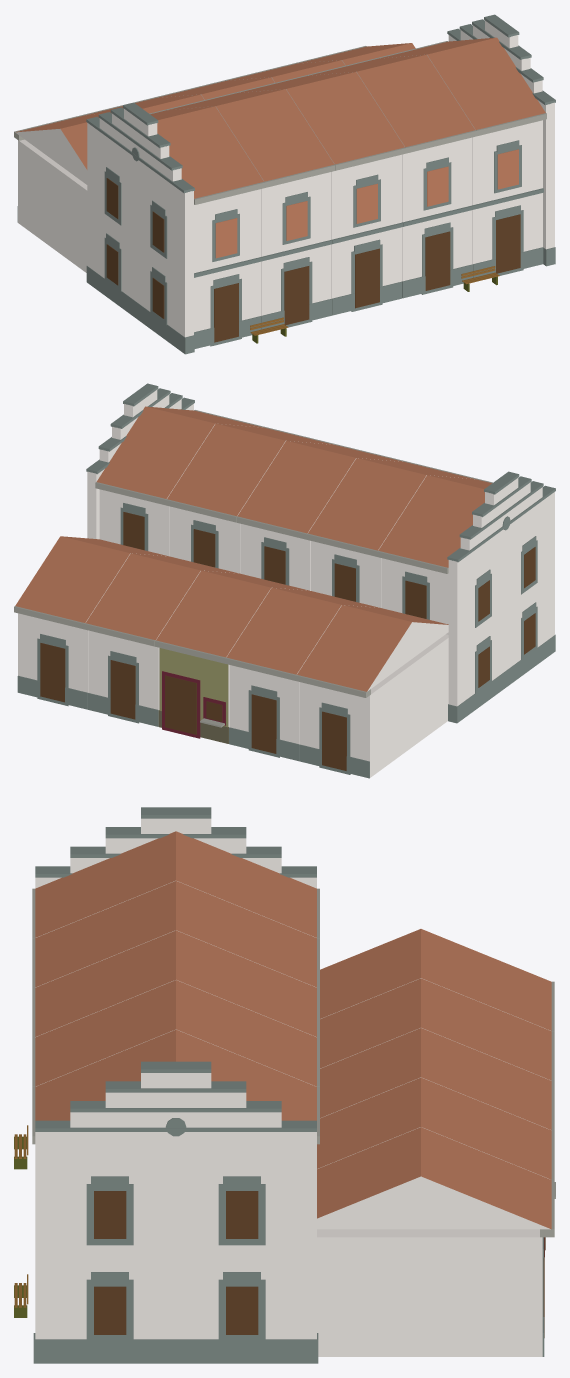
File: SM_EdificioViajerosNules_v1_Segura_LOD0.fbx
3 renders of one model, top to bottom at view 1: azimuth 30°, elevation 25°; view 2: azimuth 150°, elevation 25°; view 3: azimuth 270°, elevation 25°, orthographic. The views are drawn at different scales.
Visible parts, largest first — view 1: SM_edificio_viajeros_nules_v1_LOD0; view 2: SM_edificio_viajeros_nules_v1_LOD0; view 3: SM_edificio_viajeros_nules_v1_LOD0.
Boxes of the visible parts, x1,y1,x2,y2 form: SM_edificio_viajeros_nules_v1_LOD0: (14,14,555,354); SM_edificio_viajeros_nules_v1_LOD0: (14,383,555,778); SM_edificio_viajeros_nules_v1_LOD0: (14,807,555,1363).
Size of the model in its own units: 21.12 by 11.17 by 18.48.
